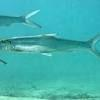Tenpounder: (1, 32, 100, 63)
